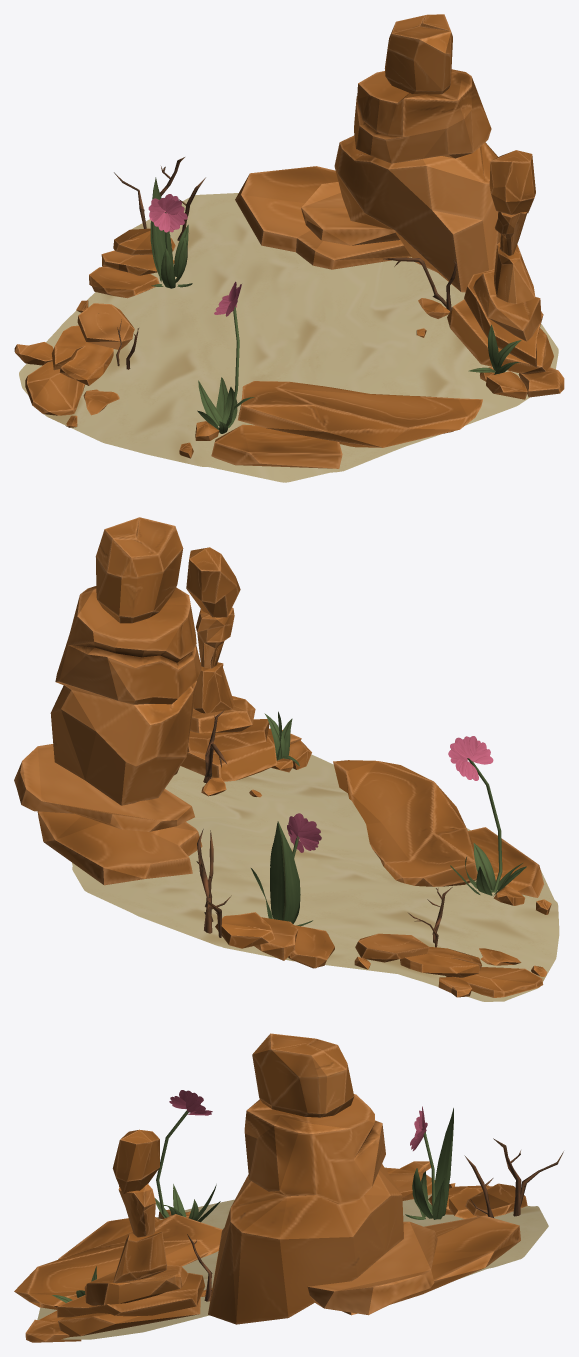
File: DesertDiorama.fbx
3 renders of one model, top to bottom at view 1: azimuth 30°, elevation 25°; view 2: azimuth 150°, elevation 25°; view 3: azimuth 270°, elevation 25°, orthographic. The views are drawn at different scales.
Parts seen in each view (by area): view 1: Steine, OptimizedDesertLP002, Blatt10; view 2: Steine, OptimizedDesertLP002, Blatt10; view 3: Steine, OptimizedDesertLP002, Blatt10, Ast07, Blatt14, Staengel1.
Boxes of the visible parts, box(x1,y1,x2,y2) form: Steine: box(14, 14, 564, 468); OptimizedDesertLP002: box(19, 193, 558, 482); Blatt10: box(150, 177, 174, 281); Steine: box(14, 517, 551, 997); OptimizedDesertLP002: box(72, 754, 559, 1001); Blatt10: box(270, 821, 300, 923); Steine: box(14, 1033, 527, 1342); OptimizedDesertLP002: box(37, 1194, 548, 1339); Blatt10: box(435, 1108, 453, 1215); Ast07: box(493, 1138, 521, 1216); Blatt14: box(412, 1168, 432, 1218); Staengel1: box(156, 1110, 188, 1217).
Size of the model in its own units: 274 by 185 by 272.
1 material, 1 textured.
